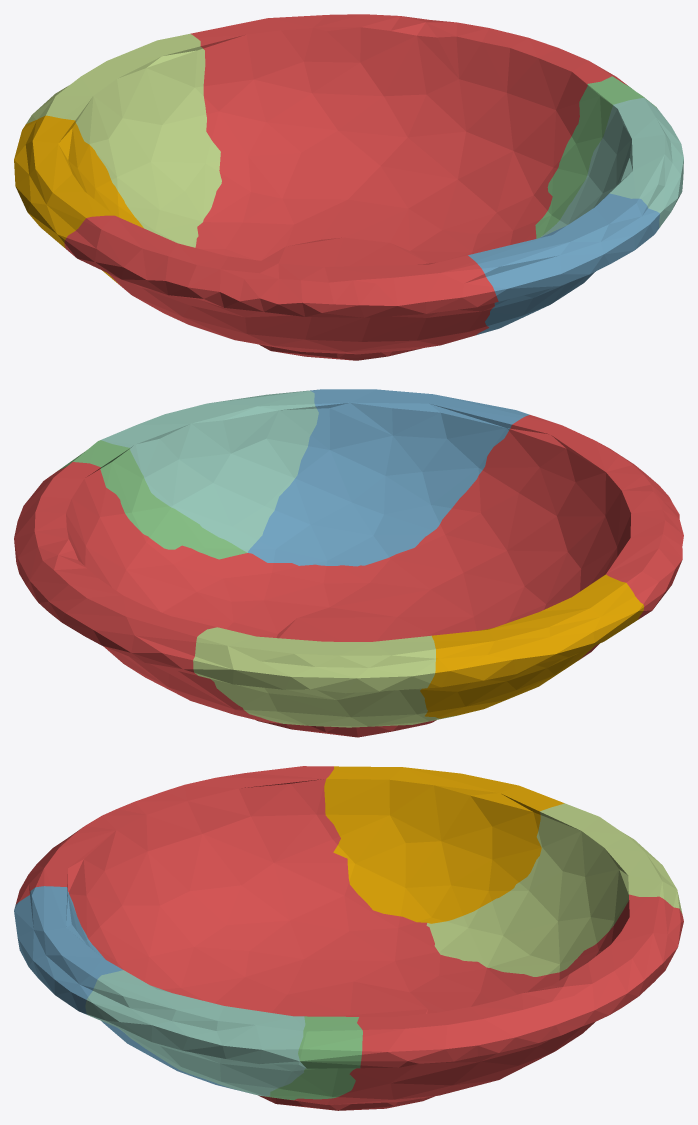
Rendered from fractured_14_6pcs.glb.
3 views of the same model, one above another, from view 1: azimuth 30°, elevation 25°; view 2: azimuth 150°, elevation 25°; view 3: azimuth 270°, elevation 25° (orthographic).
Parts seen in each view (by area): view 1: piece_1.obj, piece_5.obj, piece_2.obj, piece_0.obj, piece_4.obj, piece_3.obj; view 2: piece_1.obj, piece_2.obj, piece_4.obj, piece_5.obj, piece_0.obj, piece_3.obj; view 3: piece_1.obj, piece_0.obj, piece_5.obj, piece_4.obj, piece_2.obj, piece_3.obj.
Part boxes in pixels (x1,y1,x2,y2): piece_1.obj: [64, 14, 627, 360]; piece_5.obj: [26, 34, 221, 247]; piece_2.obj: [468, 193, 659, 334]; piece_0.obj: [14, 115, 143, 285]; piece_4.obj: [540, 97, 683, 237]; piece_3.obj: [535, 76, 657, 238]; piece_1.obj: [14, 415, 683, 737]; piece_2.obj: [248, 389, 529, 566]; piece_4.obj: [101, 390, 318, 552]; piece_5.obj: [193, 627, 459, 727]; piece_0.obj: [420, 574, 644, 718]; piece_3.obj: [58, 440, 247, 559]; piece_1.obj: [15, 766, 683, 1110]; piece_0.obj: [324, 766, 564, 923]; piece_5.obj: [426, 803, 682, 976]; piece_4.obj: [85, 970, 306, 1096]; piece_2.obj: [14, 886, 246, 1092]; piece_3.obj: [262, 1016, 362, 1100].
Bounding box in the file's own units: 0.9973 × 0.2661 × 1.
